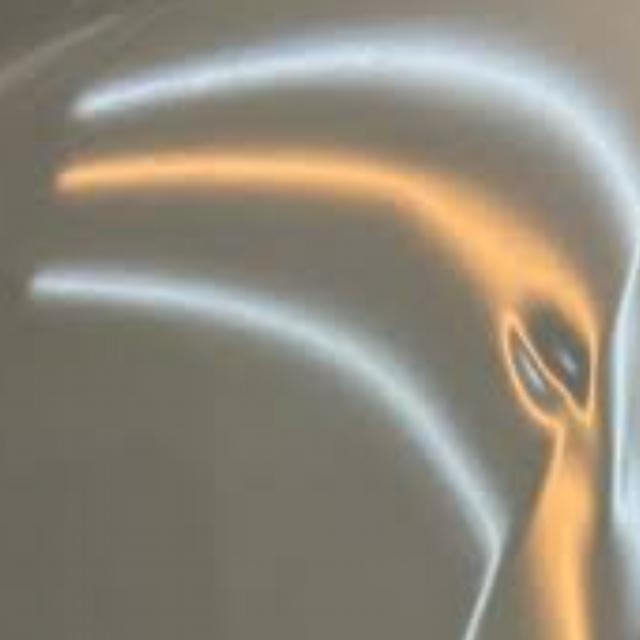dents: (446, 279, 626, 452)
